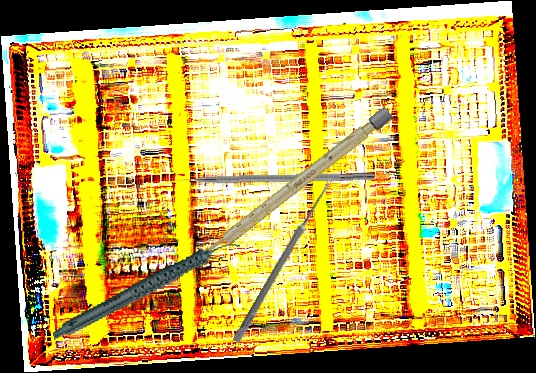Handpiece: (41, 239, 252, 340)
Hook Surgical: (160, 171, 375, 185)
Scalpel Handle: (199, 106, 394, 263)
Surgical Spoon: (232, 174, 336, 345)
